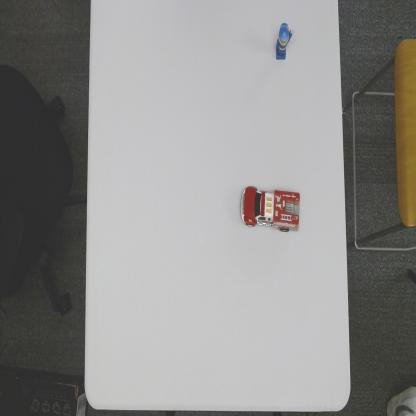Firetruck: (239, 183, 301, 237)
